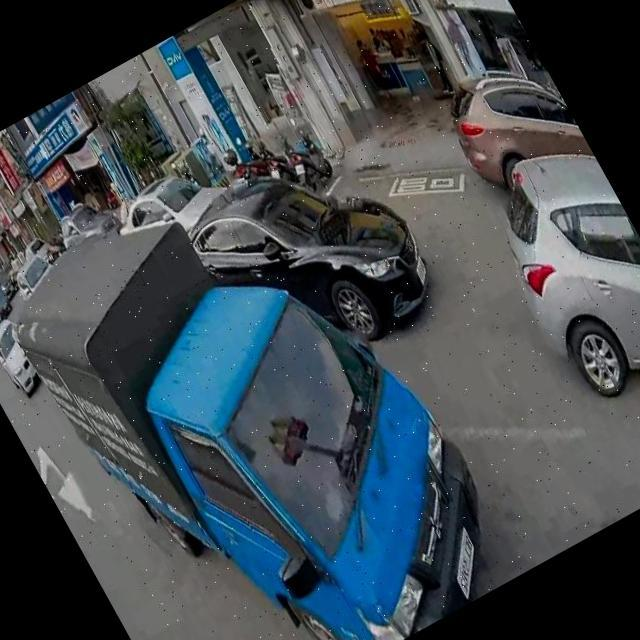person: (346, 29, 405, 110), (412, 26, 464, 98)
